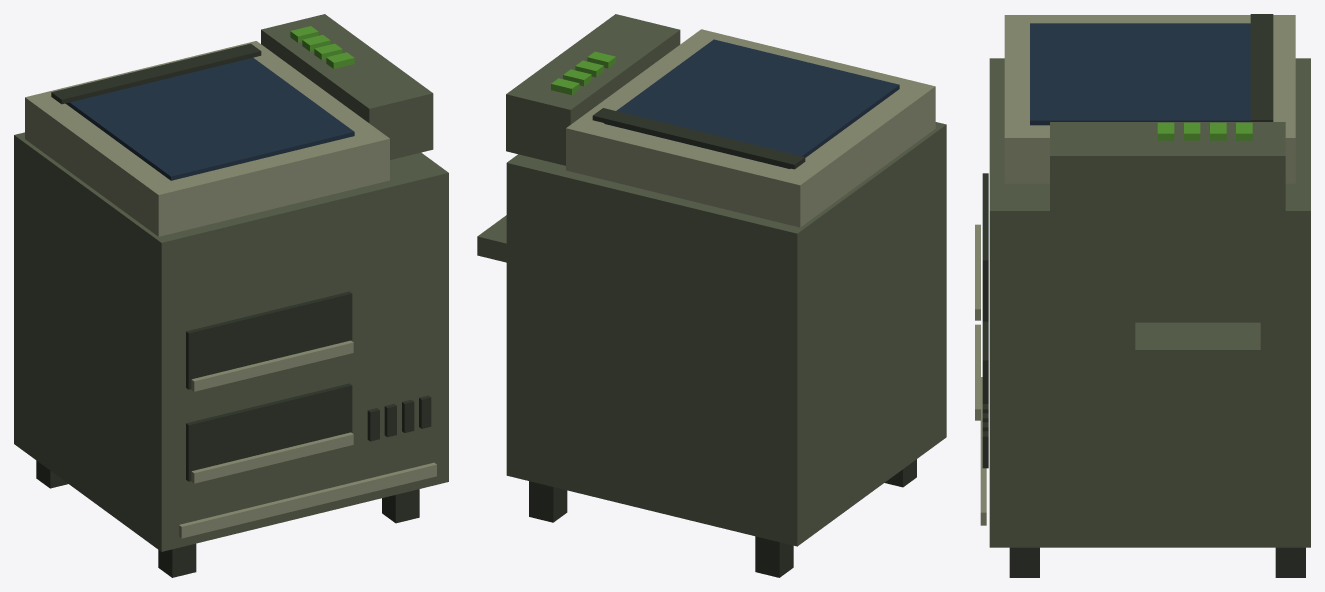
The model's file is CMU3DPhotocopier.glb.
The picture shows the model from 3 angles, left to right: view 1: azimuth 30°, elevation 25°; view 2: azimuth 150°, elevation 25°; view 3: azimuth 270°, elevation 25°; orthographic projection. The views are drawn at different scales.
Visible parts, largest first — view 1: copier cabinet, scanner frame, scanner glass, paper cassette recess (×2), raised control side, cassette bottom lip (×2), bottom front molding, scanner back seal, copier foot (×2); view 2: copier cabinet, scanner frame, scanner glass, raised control side, scanner back seal, copier foot (×2), side output shelf; view 3: copier cabinet, scanner glass, raised control side, scanner frame, side output shelf, scanner back seal, copier foot (×2), paper cassette recess (×2), cassette bottom lip (×2), bottom front molding.
Part boxes in pixels (left/top/right/bottom): copier cabinet: left=14, top=132, right=448, bottom=551; scanner frame: left=25, top=41, right=389, bottom=236; scanner glass: left=65, top=58, right=354, bottom=180; paper cassette recess (×2): left=186, top=291, right=352, bottom=481; raised control side: left=261, top=14, right=433, bottom=159; cassette bottom lip (×2): left=191, top=340, right=353, bottom=483; bottom front molding: left=179, top=462, right=436, bottom=538; scanner back seal: left=51, top=43, right=261, bottom=104; copier foot (×2): left=158, top=489, right=419, bottom=577; copier cabinet: left=506, top=122, right=946, bottom=546; scanner frame: left=566, top=29, right=935, bottom=227; scanner glass: left=604, top=39, right=899, bottom=168; raised control side: left=506, top=14, right=680, bottom=165; scanner back seal: left=592, top=108, right=805, bottom=169; copier foot (×2): left=529, top=481, right=793, bottom=577; side output shelf: left=477, top=215, right=506, bottom=262; copier cabinet: left=989, top=58, right=1310, bottom=547; scanner glass: left=1030, top=23, right=1250, bottom=125; raised control side: left=1050, top=122, right=1285, bottom=217; scanner frame: left=1004, top=15, right=1295, bottom=183; side output shelf: left=1135, top=322, right=1260, bottom=370; scanner back seal: left=1250, top=14, right=1273, bottom=121; copier foot (×2): left=1009, top=547, right=1305, bottom=577; paper cassette recess (×2): left=982, top=173, right=988, bottom=403; cassette bottom lip (×2): left=975, top=224, right=980, bottom=420; bottom front molding: left=980, top=377, right=986, bottom=525.
Size of the model in its own units: 0.85 by 0.98 by 0.669.
